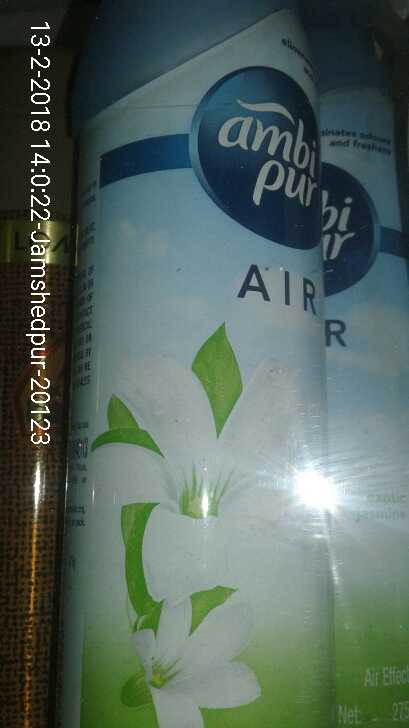ambipure: (52, 1, 323, 728)
